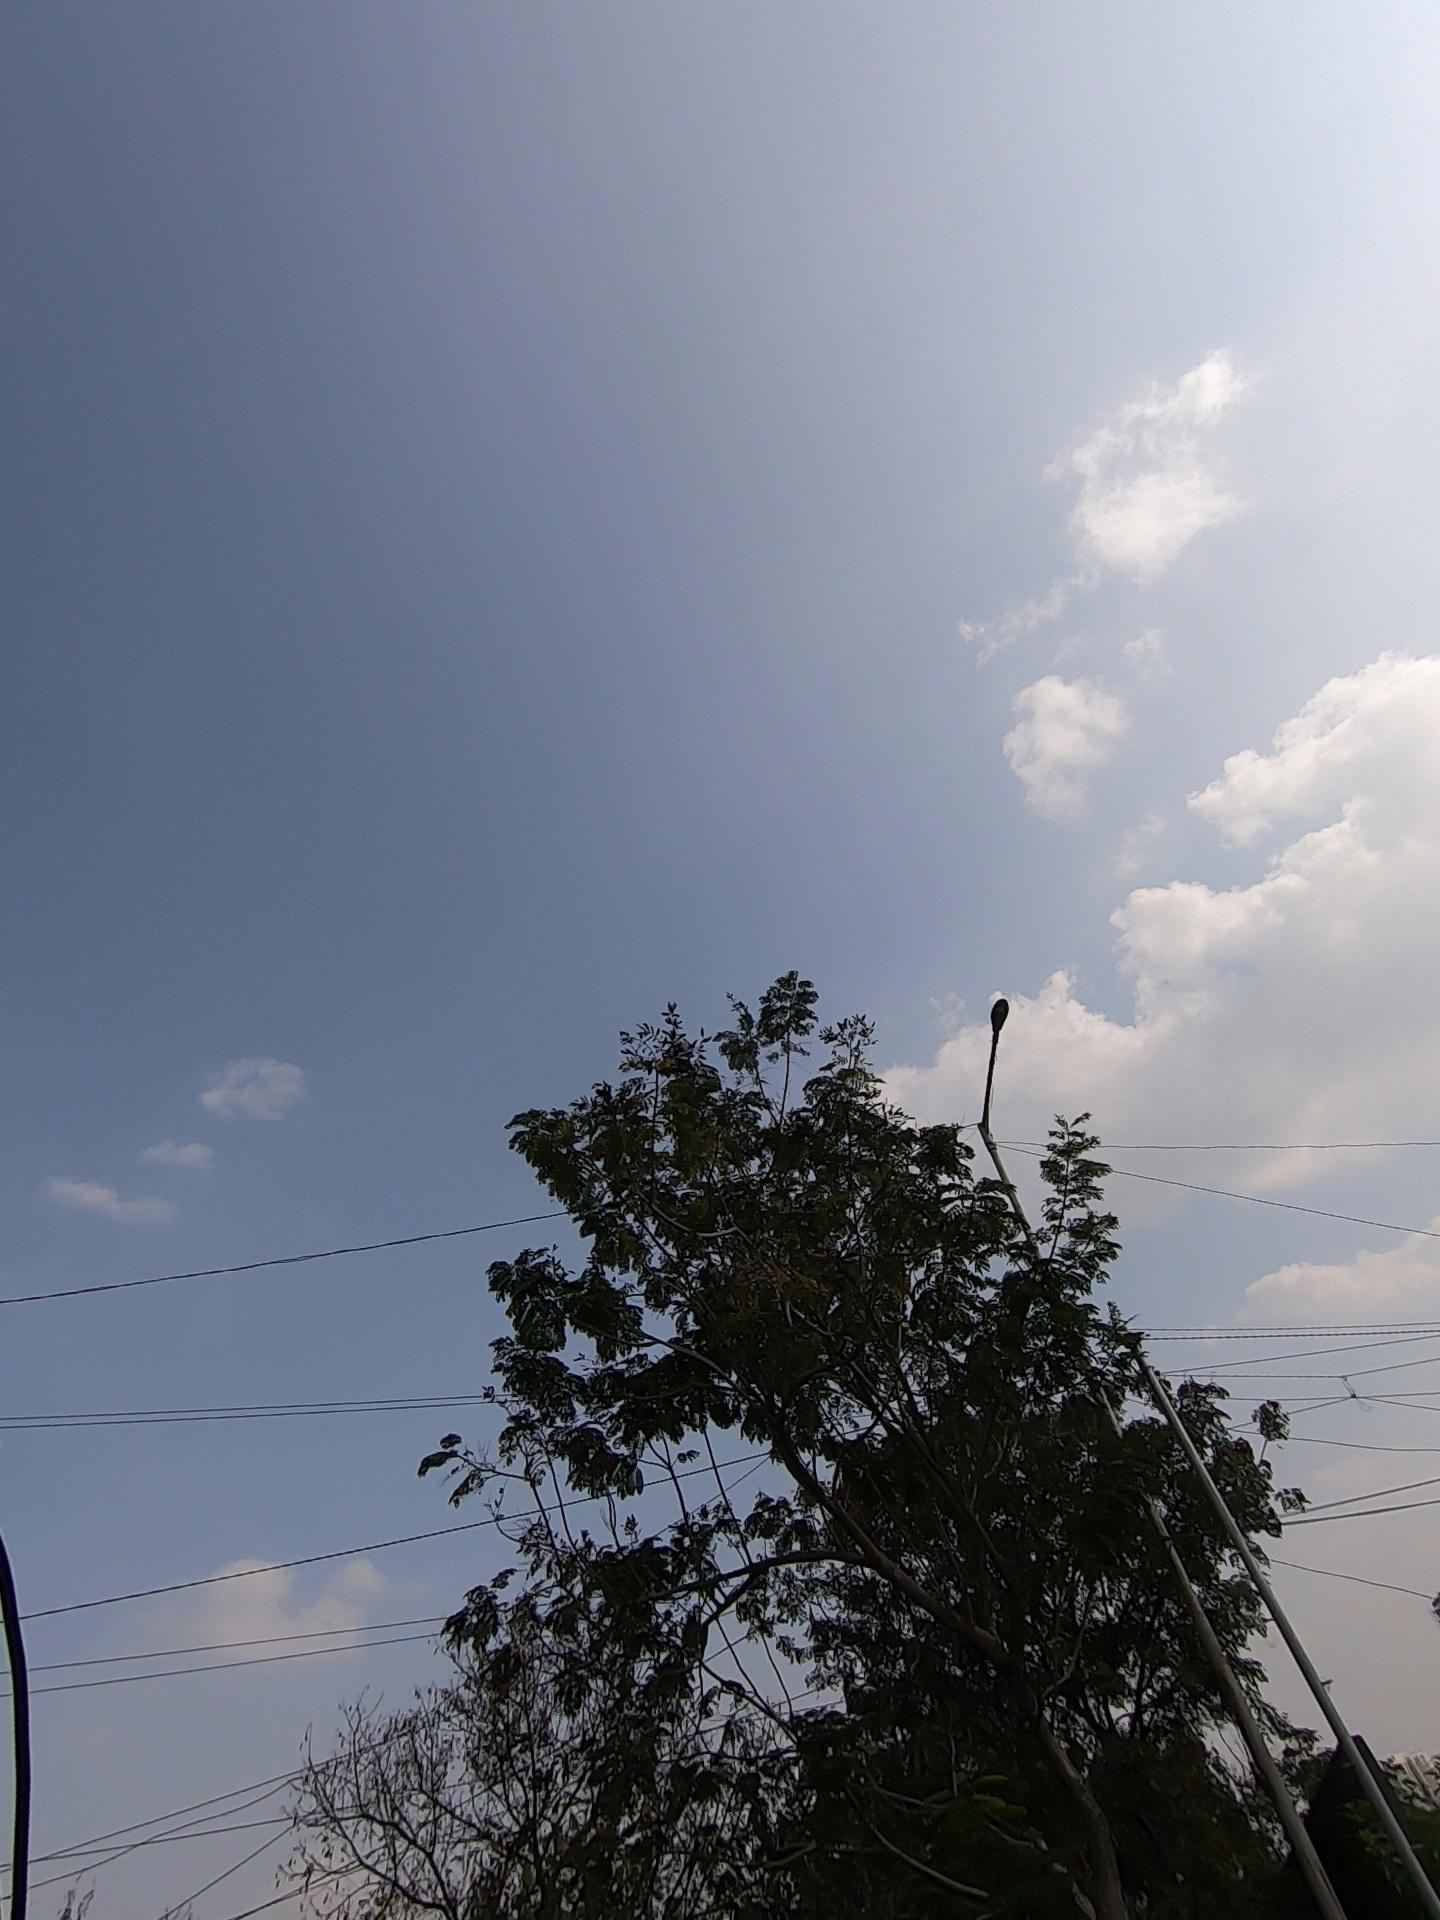off: (920, 971, 1100, 1232)
